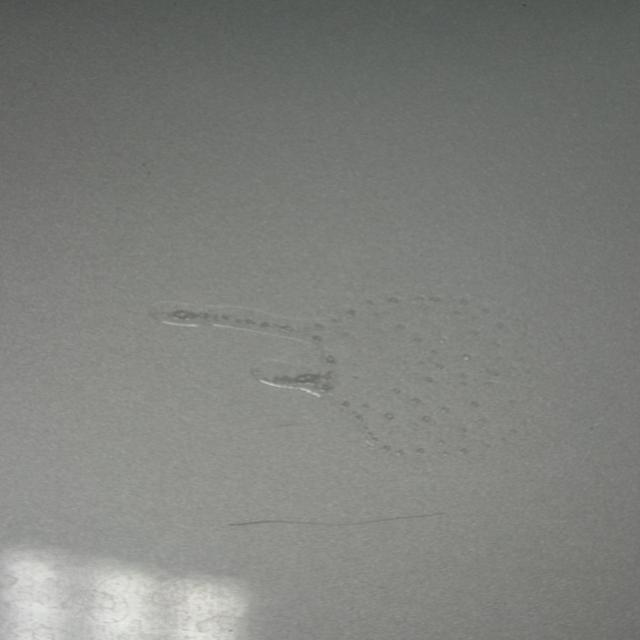runs: (131, 283, 564, 452)
scratch: (204, 509, 448, 534)
water marks: (51, 583, 133, 627), (178, 610, 269, 637), (140, 575, 200, 610), (0, 569, 24, 587)
